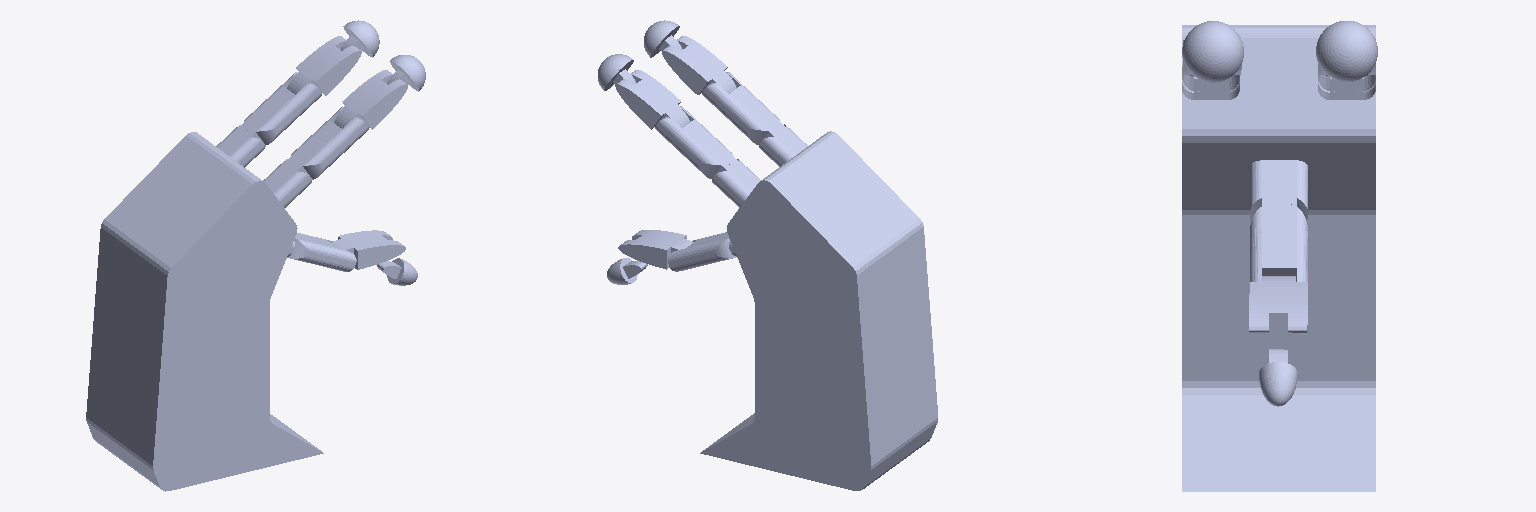
URDF robot description (hand):
<?xml version="1.0" encoding="utf-8"?>
<!-- This URDF was automatically created by SolidWorks to URDF Exporter! Originally created by [author] ([email redacted]) 
     Commit Version: 1.6.0-4-g7f85cfe  Build Version: 1.6.7995.38578
     For more information, please see http://wiki.ros.org/sw_urdf_exporter -->
<robot
  name="hand">
  <link
    name="base_link">
    <inertial>
      <origin
        xyz="-0.0936672124273331 1.63489999316369E-10 0.535231939309104"
        rpy="0 0 0" />
      <mass
        value="279.343309739745" />
      <inertia
        ixx="34.9281247022782"
        ixy="-8.13293010261419E-09"
        ixz="-2.07006228380223"
        iyy="35.7141019454583"
        iyz="-2.13551762593278E-09"
        izz="12.2415875307062" />
    </inertial>
    <visual>
      <origin
        xyz="0 0 0"
        rpy="0 0 0" />
      <geometry>
        <mesh
          filename="package://dexterous/meshes/base_link.STL" />
      </geometry>
      <material
        name="">
        <color
          rgba="0.792156862745098 0.819607843137255 0.933333333333333 1" />
      </material>
    </visual>
    <collision>
      <origin
        xyz="0 0 0"
        rpy="0 0 0" />
      <geometry>
        <mesh
          filename="package://dexterous/meshes/base_link.STL" />
      </geometry>
    </collision>
  </link>
  <link
    name="finger_1">
    <inertial>
      <origin
        xyz="0.0582113836736708 -3.44043969141561E-06 0.0400000490133948"
        rpy="0 0 0" />
      <mass
        value="2.6229121926556" />
      <inertia
        ixx="0.00599150098132531"
        ixy="5.80774439257149E-07"
        ixz="1.56203462946432E-08"
        iyy="0.0153590426624098"
        iyz="-1.69860489282124E-07"
        izz="0.0188065552953476" />
    </inertial>
    <visual>
      <origin
        xyz="0 0 0"
        rpy="0 0 0" />
      <geometry>
        <mesh
          filename="package://dexterous/meshes/finger_1.STL" />
      </geometry>
      <material
        name="">
        <color
          rgba="0.792156862745098 0.819607843137255 0.933333333333333 1" />
      </material>
    </visual>
    <collision>
      <origin
        xyz="0 0 0"
        rpy="0 0 0" />
      <geometry>
        <mesh
          filename="package://dexterous/meshes/finger_1.STL" />
      </geometry>
    </collision>
  </link>
  <joint
    name="fin1"
    type="revolute">
    <origin
      xyz="0.30864 0.175 1.2226"
      rpy="3.1416 -0.58249 0" />
    <parent
      link="base_link" />
    <child
      link="finger_1" />
    <axis
      xyz="0 0 1" />
    <limit
      lower="-1"
      upper="1"
      effort="0"
      velocity="0" />
  </joint>
  <link
    name="finger_1_1">
    <inertial>
      <origin
        xyz="0.0947429860836916 0.0543603118723592 1.13233871890106E-07"
        rpy="0 0 0" />
      <mass
        value="2.39970738830488" />
      <inertia
        ixx="0.0076675328051772"
        ixy="-0.00461551646509514"
        ixz="2.00131415440553E-08"
        iyy="0.0130634956772324"
        iyz="1.29972875113723E-08"
        izz="0.0126583730986514" />
    </inertial>
    <visual>
      <origin
        xyz="0 0 0"
        rpy="0 0 0" />
      <geometry>
        <mesh
          filename="package://dexterous/meshes/finger_1_1.STL" />
      </geometry>
      <material
        name="">
        <color
          rgba="0.792156862745098 0.819607843137255 0.933333333333333 1" />
      </material>
    </visual>
    <collision>
      <origin
        xyz="0 0 0"
        rpy="0 0 0" />
      <geometry>
        <mesh
          filename="package://dexterous/meshes/finger_1_1.STL" />
      </geometry>
    </collision>
  </link>
  <joint
    name="fin1_1"
    type="revolute">
    <origin
      xyz="0.179538449644514 -1.07387640339573E-05 0.0396629523318704"
      rpy="-1.5707963267949 -0.582486578802211 -5.9813179065596E-05" />
    <parent
      link="finger_1" />
    <child
      link="finger_1_1" />
    <axis
      xyz="0 0 -1" />
    <limit
      lower="0"
      upper="1.2"
      effort="0"
      velocity="0" />
  </joint>
  <link
    name="finger_1_1_1">
    <inertial>
      <origin
        xyz="0.0528495757785843 0.0341964919671829 8.21324946942426E-09"
        rpy="0 0 0" />
      <mass
        value="0.67086342261683" />
      <inertia
        ixx="0.000765115111686015"
        ixy="-0.000290281022830496"
        ixz="3.19374936416653E-10"
        iyy="0.00102590761695207"
        iyz="2.22207209578209E-10"
        izz="0.00120606464694258" />
    </inertial>
    <visual>
      <origin
        xyz="0 0 0"
        rpy="0 0 0" />
      <geometry>
        <mesh
          filename="package://dexterous/meshes/finger_1_1_1.STL" />
      </geometry>
      <material
        name="">
        <color
          rgba="0.792156862745098 0.819607843137255 0.933333333333333 1" />
      </material>
    </visual>
    <collision>
      <origin
        xyz="0 0 0"
        rpy="0 0 0" />
      <geometry>
        <mesh
          filename="package://dexterous/meshes/finger_1_1_1.STL" />
      </geometry>
    </collision>
  </link>
  <joint
    name="fin1_1_1"
    type="revolute">
    <origin
      xyz="0.212076291309529 0.122256317843988 0"
      rpy="0 0 0" />
    <parent
      link="finger_1_1" />
    <child
      link="finger_1_1_1" />
    <axis
      xyz="0 0 1" />
    <limit
      lower="-1.5708"
      upper="0"
      effort="0"
      velocity="0" />
  </joint>
  <link
    name="finger_2">
    <inertial>
      <origin
        xyz="0.0582108729521002 0.000247979231724593 0.0399998369870127"
        rpy="0 0 0" />
      <mass
        value="2.62291216260929" />
      <inertia
        ixx="0.00599185912563818"
        ixy="-3.98633658365707E-05"
        ixz="-6.3272691918758E-08"
        iyy="0.0153586088628602"
        iyz="-1.79499154995633E-07"
        izz="0.018806490853265" />
    </inertial>
    <visual>
      <origin
        xyz="0 0 0"
        rpy="0 0 0" />
      <geometry>
        <mesh
          filename="package://dexterous/meshes/finger_2.STL" />
      </geometry>
      <material
        name="">
        <color
          rgba="0.792156862745098 0.819607843137255 0.933333333333333 1" />
      </material>
    </visual>
    <collision>
      <origin
        xyz="0 0 0"
        rpy="0 0 0" />
      <geometry>
        <mesh
          filename="package://dexterous/meshes/finger_2.STL" />
      </geometry>
    </collision>
  </link>
  <joint
    name="fin2"
    type="revolute">
    <origin
      xyz="0.38255 0 0.78051"
      rpy="3.1416 0.43641 0" />
    <parent
      link="base_link" />
    <child
      link="finger_2" />
    <axis
      xyz="0 0 1" />
    <limit
      lower="-1"
      upper="1"
      effort="0"
      velocity="0" />
  </joint>
  <link
    name="finger_2_1">
    <inertial>
      <origin
        xyz="0.0990166591529629 -0.0461184210388278 5.81050302317365E-08"
        rpy="0 0 0" />
      <mass
        value="2.39969803744161" />
      <inertia
        ixx="0.00692534578363285"
        ixy="0.00409233281180404"
        ixz="4.35343580124497E-08"
        iyy="0.0138056413390875"
        iyz="-1.79031875500785E-08"
        izz="0.0126583189931783" />
    </inertial>
    <visual>
      <origin
        xyz="0 0 0"
        rpy="0 0 0" />
      <geometry>
        <mesh
          filename="package://dexterous/meshes/finger_2_1.STL" />
      </geometry>
      <material
        name="">
        <color
          rgba="0.792156862745098 0.819607843137255 0.933333333333333 1" />
      </material>
    </visual>
    <collision>
      <origin
        xyz="0 0 0"
        rpy="0 0 0" />
      <geometry>
        <mesh
          filename="package://dexterous/meshes/finger_2_1.STL" />
      </geometry>
    </collision>
  </link>
  <joint
    name="fin2_1"
    type="revolute">
    <origin
      xyz="0.179526432571969 0.000764504714627967 0.0400025631184961"
      rpy="-1.5707963267949 0.436410170153714 0.00425842636341441" />
    <parent
      link="finger_2" />
    <child
      link="finger_2_1" />
    <axis
      xyz="0 0 -1" />
    <limit
      lower="-1.2"
      upper="0"
      effort="0"
      velocity="0" />
  </joint>
  <link
    name="finger_2_1_1">
    <inertial>
      <origin
        xyz="0.0555512334288544 -0.0296070826239864 3.573082993924E-07"
        rpy="0 0 0" />
      <mass
        value="0.670866844724945" />
      <inertia
        ixx="0.000718080712671058"
        ixy="0.000264167323688377"
        ixz="4.0155580199817E-10"
        iyy="0.00107294169250966"
        iyz="-9.52457870579495E-11"
        izz="0.0012060641373819" />
    </inertial>
    <visual>
      <origin
        xyz="0 0 0"
        rpy="0 0 0" />
      <geometry>
        <mesh
          filename="package://dexterous/meshes/finger_2_1_1.STL" />
      </geometry>
      <material
        name="">
        <color
          rgba="0.792156862745098 0.819607843137255 0.933333333333333 1" />
      </material>
    </visual>
    <collision>
      <origin
        xyz="0 0 0"
        rpy="0 0 0" />
      <geometry>
        <mesh
          filename="package://dexterous/meshes/finger_2_1_1.STL" />
      </geometry>
    </collision>
  </link>
  <joint
    name="fin2_1_1"
    type="revolute">
    <origin
      xyz="0.221690121359748 -0.103809243324189 0"
      rpy="0 0 0" />
    <parent
      link="finger_2_1" />
    <child
      link="finger_2_1_1" />
    <axis
      xyz="0 0 1" />
    <limit
      lower="0"
      upper="1.5708"
      effort="0"
      velocity="0" />
  </joint>
  <link
    name="finger_3">
    <inertial>
      <origin
        xyz="0.0582078040881369 -0.000645975418494538 0.0400000422435833"
        rpy="0 0 0" />
      <mass
        value="2.62291219958027" />
      <inertia
        ixx="0.00599265962210566"
        ixy="0.000103958216930548"
        ixz="-6.19943141006579E-09"
        iyy="0.015357890537096"
        iyz="-2.21642204466408E-07"
        izz="0.0188066005427936" />
    </inertial>
    <visual>
      <origin
        xyz="0 0 0"
        rpy="0 0 0" />
      <geometry>
        <mesh
          filename="package://dexterous/meshes/finger_3.STL" />
      </geometry>
      <material
        name="">
        <color
          rgba="0.792156862745098 0.819607843137255 0.933333333333333 1" />
      </material>
    </visual>
    <collision>
      <origin
        xyz="0 0 0"
        rpy="0 0 0" />
      <geometry>
        <mesh
          filename="package://dexterous/meshes/finger_3.STL" />
      </geometry>
    </collision>
  </link>
  <joint
    name="fin3"
    type="revolute">
    <origin
      xyz="0.308639953146715 -0.175000000000232 1.2225627998667"
      rpy="3.14159265358979 -0.58248657962397 0" />
    <parent
      link="base_link" />
    <child
      link="finger_3" />
    <axis
      xyz="0 0 1" />
    <limit
      lower="-1"
      upper="1"
      effort="0"
      velocity="0" />
  </joint>
  <link
    name="finger_3_1">
    <inertial>
      <origin
        xyz="0.0949423907897378 0.0540098031361804 2.74759229146326E-07"
        rpy="0 0 0" />
      <mass
        value="2.3996917545326" />
      <inertia
        ixx="0.00763346051353469"
        ixy="-0.00459538282293504"
        ixz="-2.06759840093756E-08"
        iyy="0.0130973260097602"
        iyz="-1.00559816598103E-08"
        izz="0.0126581667785386" />
    </inertial>
    <visual>
      <origin
        xyz="0 0 0"
        rpy="0 0 0" />
      <geometry>
        <mesh
          filename="package://dexterous/meshes/finger_3_1.STL" />
      </geometry>
      <material
        name="">
        <color
          rgba="0.792156862745098 0.819607843137255 0.933333333333333 1" />
      </material>
    </visual>
    <collision>
      <origin
        xyz="0 0 0"
        rpy="0 0 0" />
      <geometry>
        <mesh
          filename="package://dexterous/meshes/finger_3_1.STL" />
      </geometry>
    </collision>
  </link>
  <joint
    name="fin3_1"
    type="revolute">
    <origin
      xyz="0.179528666620996 -0.00199234467872766 0.0396429453369453"
      rpy="-1.5707963267949 -0.582458293086268 -0.0110971853921247" />
    <parent
      link="finger_3" />
    <child
      link="finger_3_1" />
    <axis
      xyz="0 0 -1" />
    <limit
      lower="0"
      upper="1.2"
      effort="0"
      velocity="0" />
  </joint>
  <link
    name="finger_3_1_1">
    <inertial>
      <origin
        xyz="0.0536933464398941 0.0328557852204987 7.86275311526197E-09"
        rpy="0 0 0" />
      <mass
        value="0.670863404845149" />
      <inertia
        ixx="0.000750675852080777"
        ixy="-0.00028335298864535"
        ixz="2.9238503049449E-10"
        iyy="0.00104034676227501"
        iyz="1.98043304970411E-10"
        izz="0.00120606455043466" />
    </inertial>
    <visual>
      <origin
        xyz="0 0 0"
        rpy="0 0 0" />
      <geometry>
        <mesh
          filename="package://dexterous/meshes/finger_3_1_1.STL" />
      </geometry>
      <material
        name="">
        <color
          rgba="0.792156862745098 0.819607843137255 0.933333333333333 1" />
      </material>
    </visual>
    <collision>
      <origin
        xyz="0 0 0"
        rpy="0 0 0" />
      <geometry>
        <mesh
          filename="package://dexterous/meshes/finger_3_1_1.STL" />
      </geometry>
    </collision>
  </link>
  <joint
    name="fin3_1_1"
    type="revolute">
    <origin
      xyz="0.212632639805716 0.121302703469605 0"
      rpy="0 0 0" />
    <parent
      link="finger_3_1" />
    <child
      link="finger_3_1_1" />
    <axis
      xyz="0 0 -1" />
    <limit
      lower="0"
      upper="1.5708"
      effort="0"
      velocity="0" />
  </joint>
</robot>

--- Render facts (derived) ---
3 views of the same robot in one strip: view 1: azimuth 30°, elevation 25°; view 2: azimuth 150°, elevation 25°; view 3: azimuth 270°, elevation 25° (orthographic).
Model hand with 10 links and 9 joints (9 revolute), rooted at base_link, posed every joint at zero.
Visible links, largest first — view 1: base_link, finger_1, finger_3, finger_1_1, finger_3_1, finger_2_1, finger_2, finger_1_1_1, finger_3_1_1, finger_2_1_1; view 2: base_link, finger_3, finger_1, finger_1_1, finger_3_1, finger_2_1, finger_2, finger_1_1_1, finger_3_1_1, finger_2_1_1; view 3: base_link, finger_2, finger_2_1, finger_1_1_1, finger_3_1_1, finger_2_1_1, finger_1, finger_3.
Boxes of the visible links, left/top/right/bottom form: base_link: left=86, top=123, right=323, bottom=491; finger_1: left=244, top=72, right=321, bottom=144; finger_3: left=291, top=107, right=368, bottom=179; finger_1_1: left=287, top=36, right=361, bottom=95; finger_3_1: left=334, top=70, right=407, bottom=129; finger_2_1: left=331, top=230, right=405, bottom=269; finger_2: left=288, top=233, right=356, bottom=271; finger_1_1_1: left=341, top=20, right=379, bottom=57; finger_3_1_1: left=387, top=55, right=425, bottom=91; finger_2_1_1: left=377, top=258, right=417, bottom=285; base_link: left=700, top=123, right=937, bottom=490; finger_3: left=702, top=72, right=780, bottom=144; finger_1: left=655, top=106, right=733, bottom=178; finger_1_1: left=615, top=70, right=689, bottom=129; finger_3_1: left=662, top=36, right=736, bottom=94; finger_2_1: left=618, top=230, right=693, bottom=269; finger_2: left=667, top=232, right=735, bottom=271; finger_1_1_1: left=598, top=54, right=636, bottom=90; finger_3_1_1: left=644, top=20, right=682, bottom=57; finger_2_1_1: left=607, top=258, right=647, bottom=284; base_link: left=1182, top=25, right=1375, bottom=491; finger_2: left=1250, top=202, right=1307, bottom=281; finger_2_1: left=1249, top=276, right=1307, bottom=333; finger_1_1_1: left=1316, top=21, right=1377, bottom=81; finger_3_1_1: left=1182, top=21, right=1243, bottom=82; finger_2_1_1: left=1259, top=349, right=1297, bottom=406; finger_1: left=1318, top=75, right=1375, bottom=91; finger_3: left=1182, top=57, right=1239, bottom=91.
Size in the robot's own frame: 1.28 by 0.5049 by 1.51 metres.
Meshes: 10 distinct files referenced, 10 mesh visuals loaded (10 binary STL).